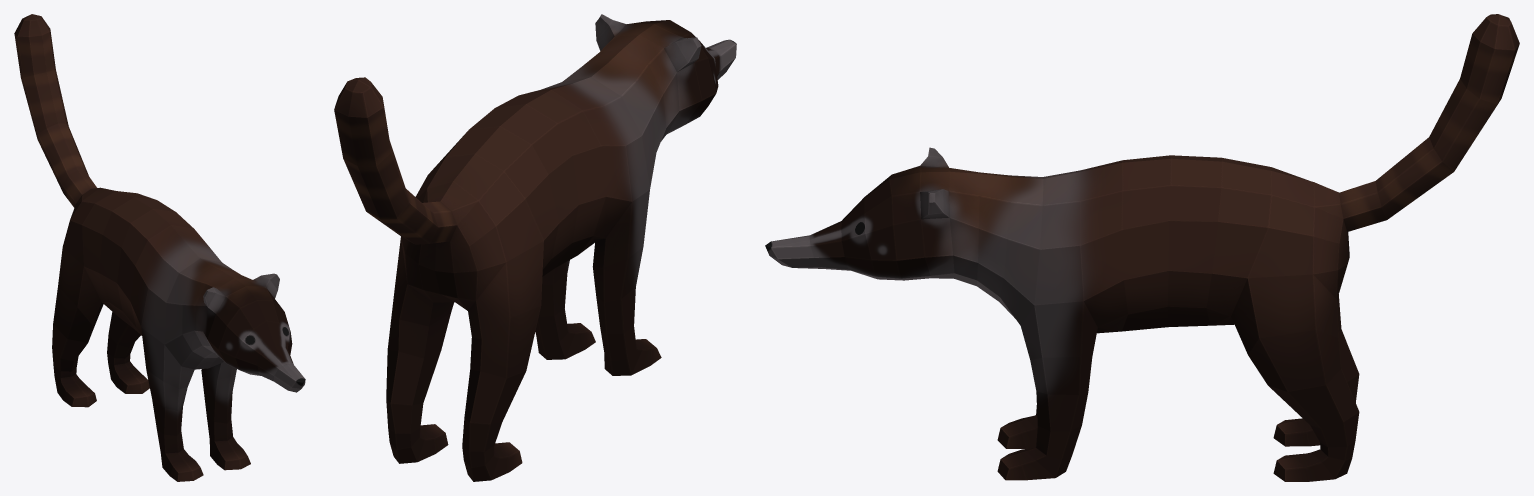
The model's file is ec30c3ca-4c46-4ee0-b236-42ef45fbeb5d.glb.
3 views of the same model, side by side, from view 1: azimuth 30°, elevation 25°; view 2: azimuth 150°, elevation 25°; view 3: azimuth 270°, elevation 25° (orthographic). The views are drawn at different scales.
Visible parts, largest first — view 1: Coati_mesh; view 2: Coati_mesh; view 3: Coati_mesh.
Boxes of the visible parts, bbox=[...] form: Coati_mesh: bbox=[14, 14, 305, 481]; Coati_mesh: bbox=[334, 14, 736, 481]; Coati_mesh: bbox=[765, 14, 1519, 481].
Bounding box in the file's own units: 0.8993 × 3.15 × 4.88.
Materials: 1 (1 with a texture image).
